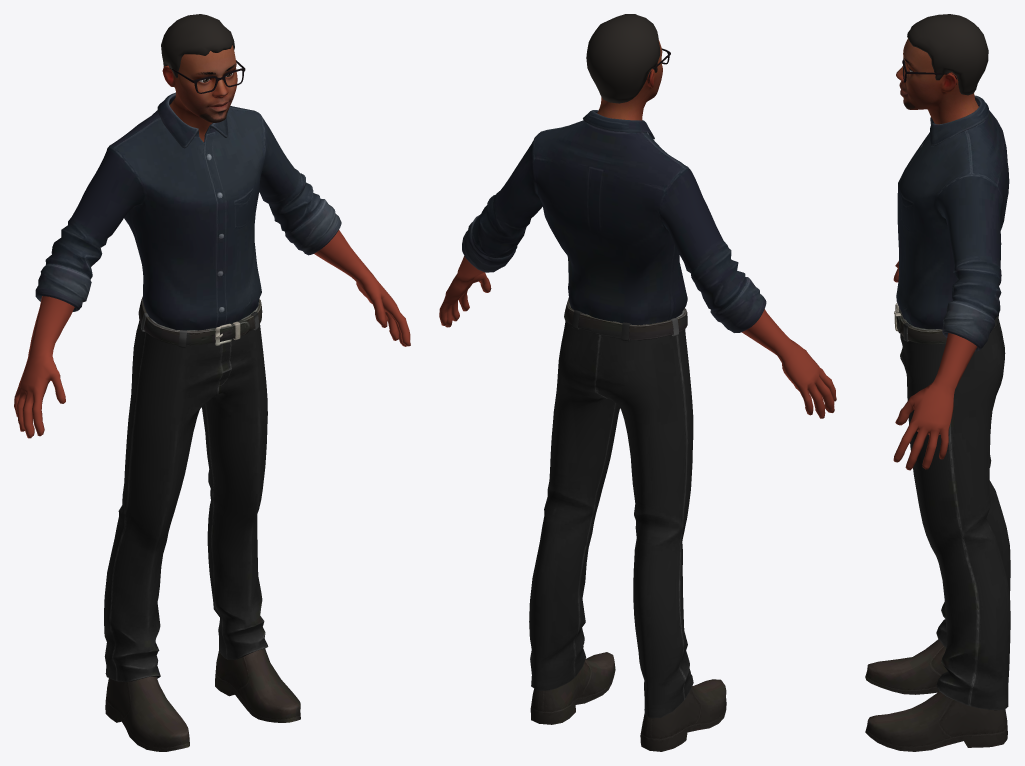
The model's file is stylized-african-male.glb.
The picture shows the model from 3 angles, left to right: view 1: azimuth 30°, elevation 25°; view 2: azimuth 150°, elevation 25°; view 3: azimuth 270°, elevation 25°; orthographic projection.
Visible parts, largest first — view 1: Wolf3D_Head; view 2: Wolf3D_Head; view 3: Wolf3D_Head.
Boxes of the visible parts, x1,y1,x2,y2 form: Wolf3D_Head: [14, 14, 410, 751]; Wolf3D_Head: [439, 14, 836, 751]; Wolf3D_Head: [865, 14, 1010, 751].
Bounding box in the file's own units: 1.06 × 1.84 × 0.3489.
Materials: 9 (9 with a texture image).
